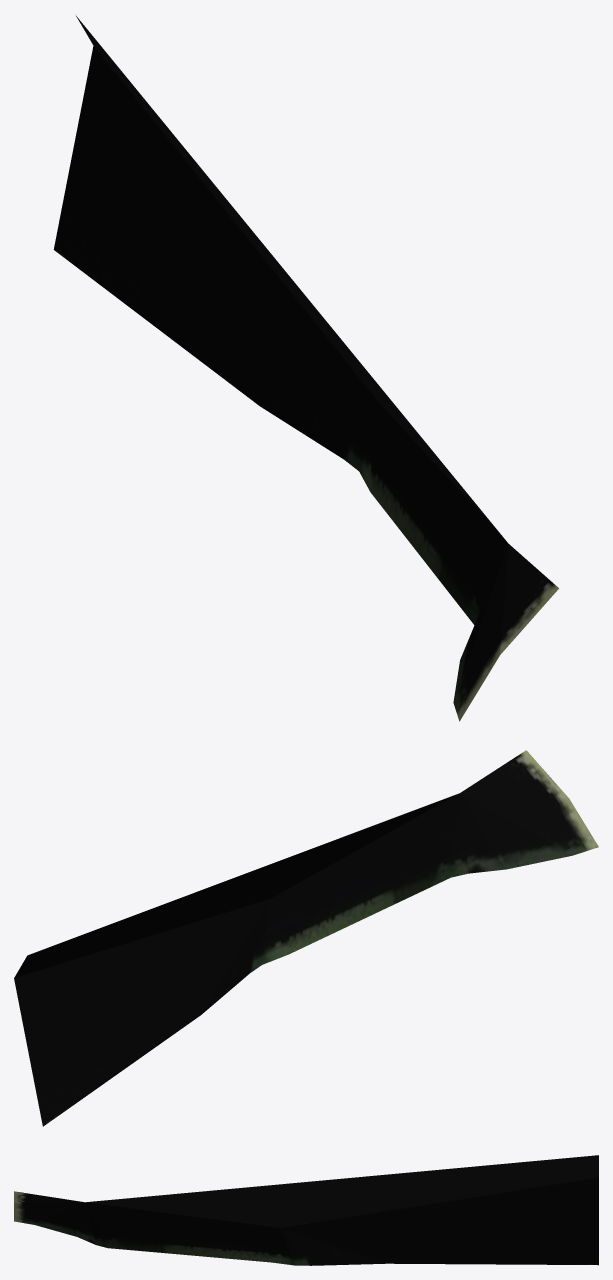
3 views of the same model, one above another, from view 1: azimuth 30°, elevation 25°; view 2: azimuth 150°, elevation 25°; view 3: azimuth 270°, elevation 25° (orthographic). The views are drawn at different scales.
Size of the model in its own units: 2.55 by 2.56 by 11.8.
1 material, 1 textured.
